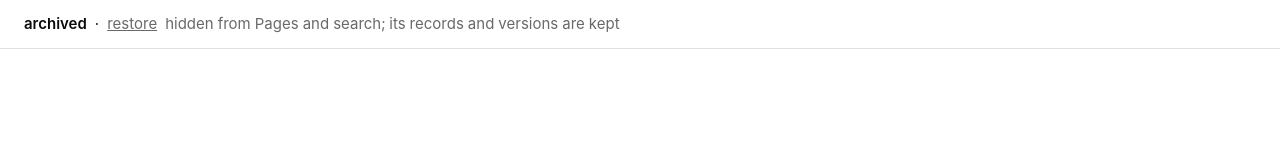
a refused restore shows the server's reason
Click the button with aria-label "restore reading list": point(132, 24) x1=107 y1=8 x2=157 y2=40
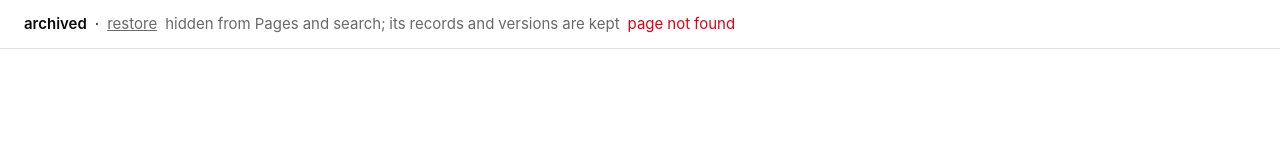
Expected: the message reads "page not found", x1=628 y1=14 x2=735 y2=33
